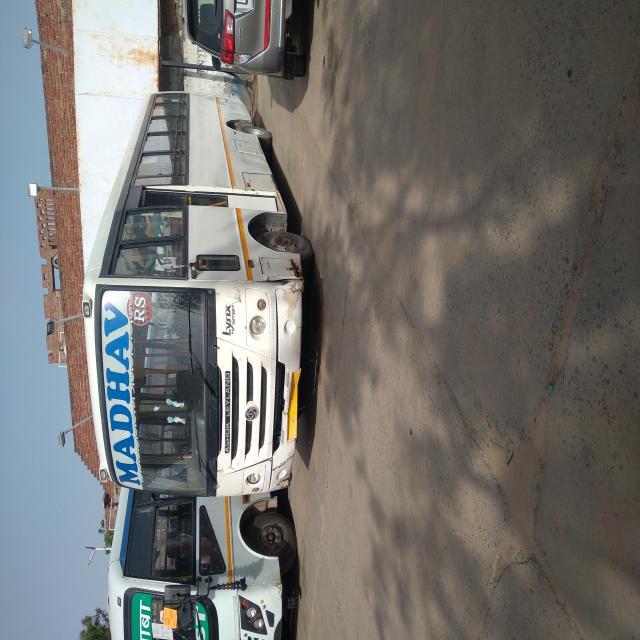Bus: (113, 140, 415, 398), (1, 142, 106, 398)
Car: (421, 247, 480, 411)
